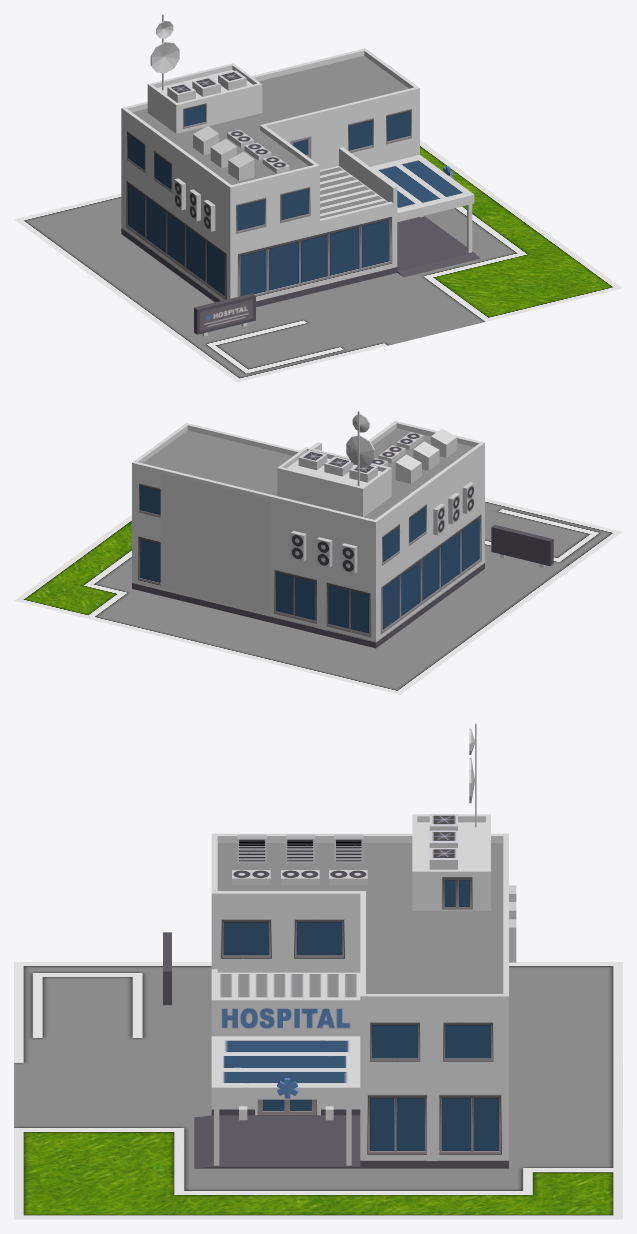
The model's file is Hospital_Lvl_3.fbx.
The picture shows the model from 3 angles, top to bottom: view 1: azimuth 30°, elevation 25°; view 2: azimuth 150°, elevation 25°; view 3: azimuth 270°, elevation 25°; orthographic projection. The views are drawn at different scales.
Parts seen in each view (by area): view 1: Hospital_Lvl_3, Hospital_BG; view 2: Hospital_Lvl_3, Hospital_BG, Graffiti_001; view 3: Hospital_Lvl_3, Hospital_BG.
Part boxes in pixels (x1,y1,x2,y2): Hospital_Lvl_3: [121, 14, 480, 336]; Hospital_BG: [14, 140, 622, 382]; Hospital_Lvl_3: [132, 411, 553, 648]; Hospital_BG: [14, 498, 622, 694]; Graffiti_001: [160, 473, 270, 614]; Hospital_Lvl_3: [163, 723, 516, 1168]; Hospital_BG: [14, 962, 622, 1219].
Size of the model in its own units: 2000 by 1093 by 2000.
